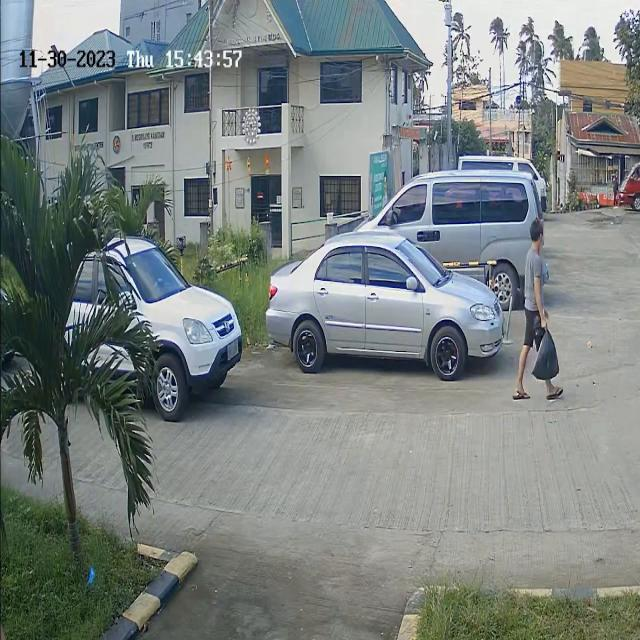garbage: (533, 334, 562, 379)
person: (520, 215, 550, 329)
